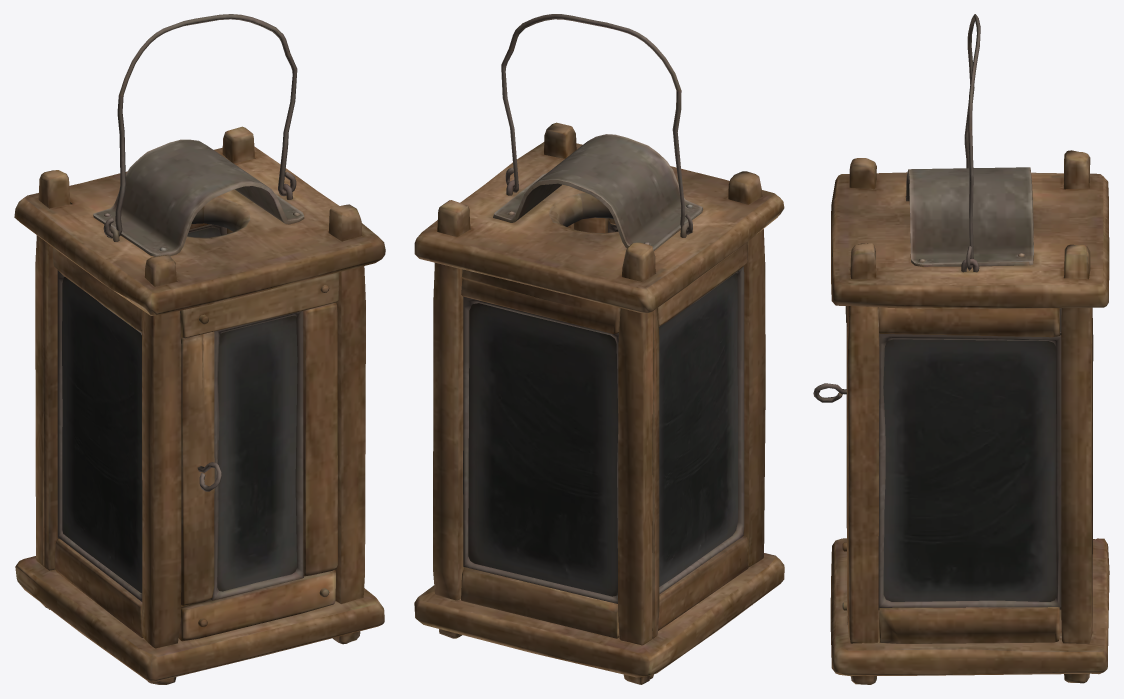
Rendered from lantern.glb.
3 views of the same model, side by side, from view 1: azimuth 30°, elevation 25°; view 2: azimuth 150°, elevation 25°; view 3: azimuth 270°, elevation 25° (orthographic).
Visible parts, largest first — view 1: wooden_lantern_01, wooden_lantern_01_door, wooden_lantern_01_handle; view 2: wooden_lantern_01, wooden_lantern_01_handle, wooden_lantern_01_door; view 3: wooden_lantern_01, wooden_lantern_01_handle, wooden_lantern_01_door.
Part boxes in pixels (x1,y1,x2,y2): wooden_lantern_01: (14,126,385,684); wooden_lantern_01_door: (178,272,339,641); wooden_lantern_01_handle: (103,14,297,238); wooden_lantern_01: (414,122,784,684); wooden_lantern_01_handle: (501,14,692,234); wooden_lantern_01_door: (574,217,617,233); wooden_lantern_01: (830,150,1109,684); wooden_lantern_01_handle: (964,14,980,270); wooden_lantern_01_door: (813,306,847,624).
Bounding box in the file's own units: 0.2211 × 0.5301 × 0.2347.
2 materials, 2 textured.
